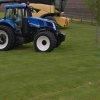Tractor: (3, 3, 75, 57)
